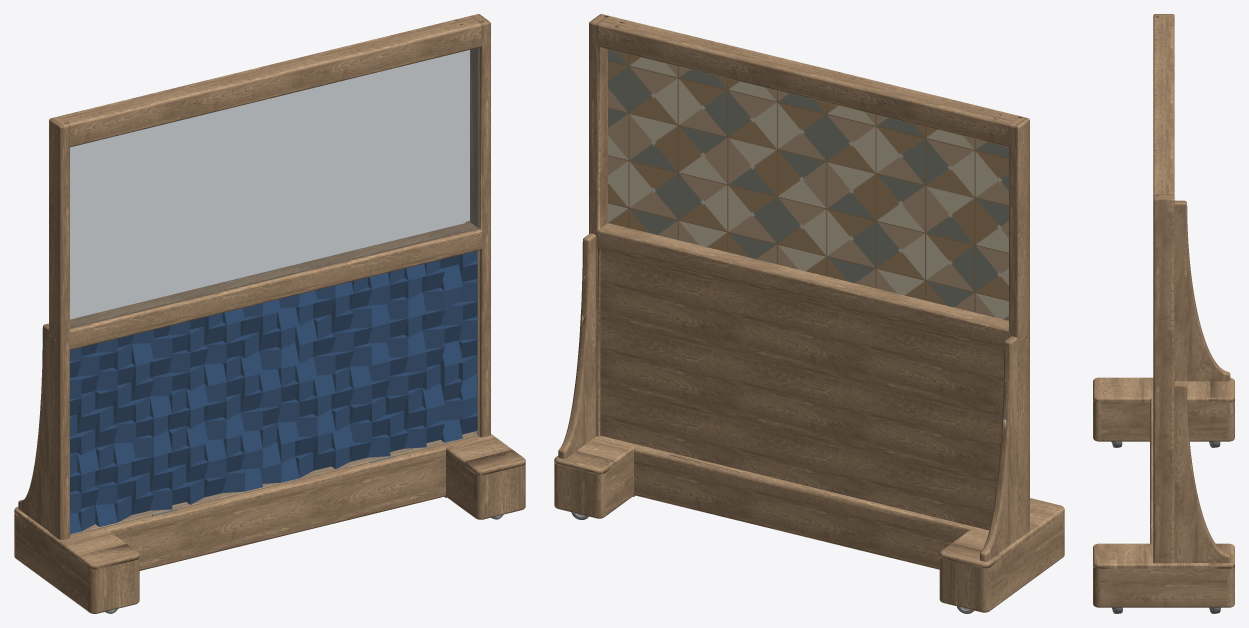
File: v10-linen-marquetry-one.glb
3 views of the same model, side by side, from view 1: azimuth 30°, elevation 25°; view 2: azimuth 150°, elevation 25°; view 3: azimuth 270°, elevation 25° (orthographic). The views are drawn at different scales.
Parts seen in each view (by area): view 1: Wood, Cover glass, Navy Everwood relief, Linen Marquetry charcoal reverse; view 2: Wood, Linen Marquetry printed face; view 3: Wood, Nonmarking rubber.001.
Part boxes in pixels (<box>): Wood: <box>14,14,525,613</box>; Cover glass: <box>70,251,478,534</box>; Navy Everwood relief: <box>70,251,477,534</box>; Linen Marquetry charcoal reverse: <box>70,48,479,328</box>; Wood: <box>554,14,1064,612</box>; Linen Marquetry printed face: <box>608,49,1008,320</box>; Wood: <box>1093,14,1234,607</box>; Nonmarking rubber.001: <box>1112,441,1220,613</box>.
Bounding box in the file's own units: 1.83 × 1.91 × 0.5842.
Materials: 10 (2 with a texture image).
